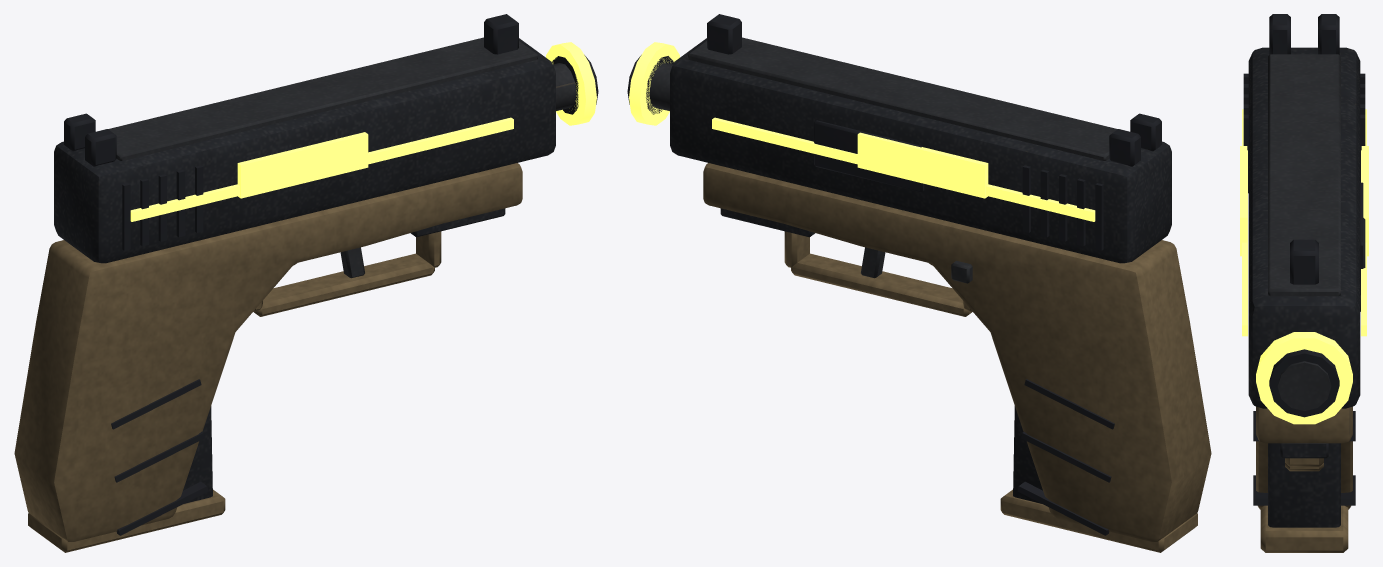
The model's file is pistol_r4.fbx.
The picture shows the model from 3 angles, left to right: view 1: azimuth 30°, elevation 25°; view 2: azimuth 150°, elevation 25°; view 3: azimuth 270°, elevation 25°; orthographic projection. The views are drawn at different scales.
Parts seen in each view (by area): view 1: Body, Slide, Glow, Magazine; view 2: Body, Slide, Glow, Magazine; view 3: Slide, Body, Magazine, Glow.
Boxes of the visible parts, x1,y1,x2,y2 form: Body: [14, 55, 598, 541]; Slide: [54, 14, 555, 263]; Glow: [130, 42, 596, 221]; Magazine: [28, 406, 225, 552]; Body: [627, 55, 1211, 541]; Slide: [670, 14, 1171, 263]; Glow: [629, 42, 1095, 221]; Magazine: [1000, 406, 1197, 552]; Slide: [1243, 14, 1365, 408]; Body: [1253, 295, 1360, 509]; Magazine: [1260, 443, 1348, 552]; Glow: [1240, 109, 1368, 424].
Bounding box in the file's own units: 3.04 × 2.16 × 0.53.
Materials: 2 (1 with a texture image).
